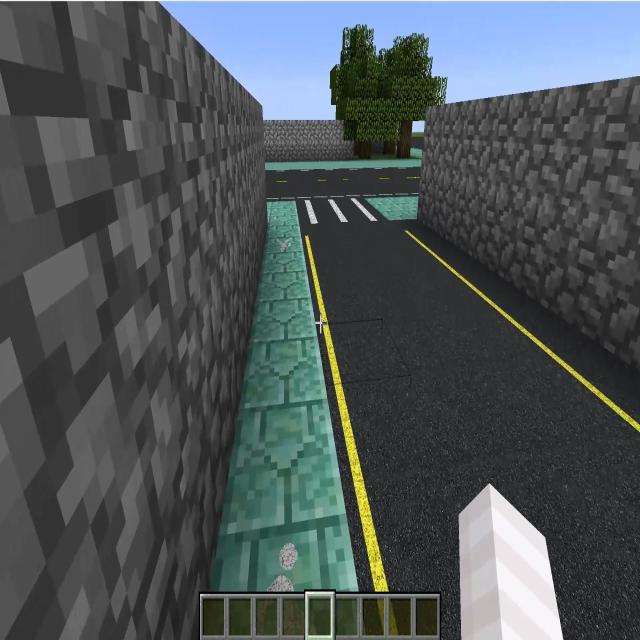crosswalk: (297, 203, 383, 222)
road: (300, 221, 640, 639), (268, 170, 420, 202)
sidewalk: (208, 203, 360, 594), (265, 151, 421, 171), (365, 195, 418, 220)
